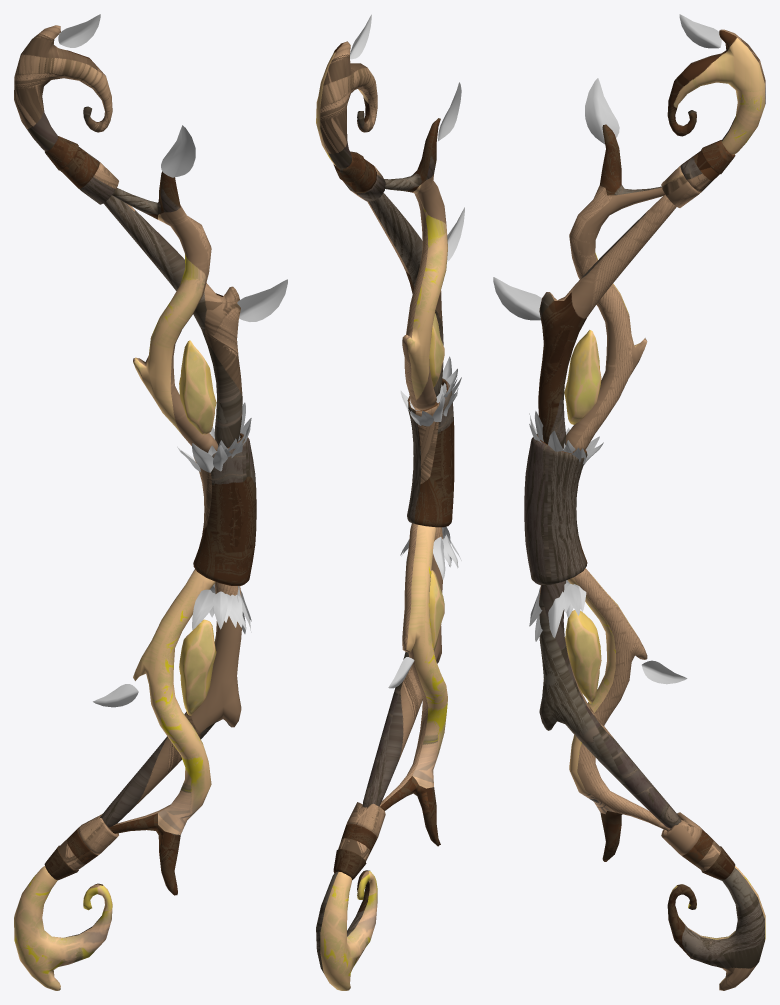
Rendered from bow.fbx.
The picture shows the model from 3 angles, left to right: view 1: azimuth 90°, elevation 25°; view 2: azimuth 150°, elevation 25°; view 3: azimuth 270°, elevation 25°; orthographic projection.
Parts seen in each view (by area): view 1: Cylinder.006, PM3D_Sphere3D_2.004, Plane.030, Plane.001, Plane.004, Plane.003, Plane.002; view 2: Cylinder.006, Plane.030, PM3D_Sphere3D_2.004, Plane.004, Plane.001, Plane.003; view 3: Cylinder.006, PM3D_Sphere3D_2.004, Plane.030, Plane.004, Plane.001, Plane.003, Plane.002.
Part boxes in pixels (left/top/right/bottom): Cylinder.006: left=14, top=25, right=256, bottom=990; PM3D_Sphere3D_2.004: left=179, top=340, right=216, bottom=715; Plane.030: left=177, top=402, right=251, bottom=633; Plane.001: left=237, top=279, right=287, bottom=321; Plane.004: left=161, top=125, right=195, bottom=177; Plane.003: left=58, top=14, right=100, bottom=47; Plane.002: left=93, top=684, right=138, bottom=707; Cylinder.006: left=316, top=41, right=454, bottom=990; Plane.030: left=400, top=356, right=461, bottom=579; PM3D_Sphere3D_2.004: left=429, top=313, right=444, bottom=651; Plane.004: left=438, top=82, right=461, bottom=141; Plane.001: left=447, top=207, right=464, bottom=261; Plane.003: left=350, top=14, right=371, bottom=59; Cylinder.006: left=524, top=29, right=765, bottom=990; PM3D_Sphere3D_2.004: left=564, top=330, right=601, bottom=703; Plane.030: left=529, top=411, right=603, bottom=641; Plane.004: left=585, top=78, right=619, bottom=144; Plane.001: left=493, top=277, right=541, bottom=320; Plane.003: left=679, top=14, right=721, bottom=48; Plane.002: left=641, top=660, right=687, bottom=684.
Size of the model in its own units: 86.91 by 1082 by 274.
